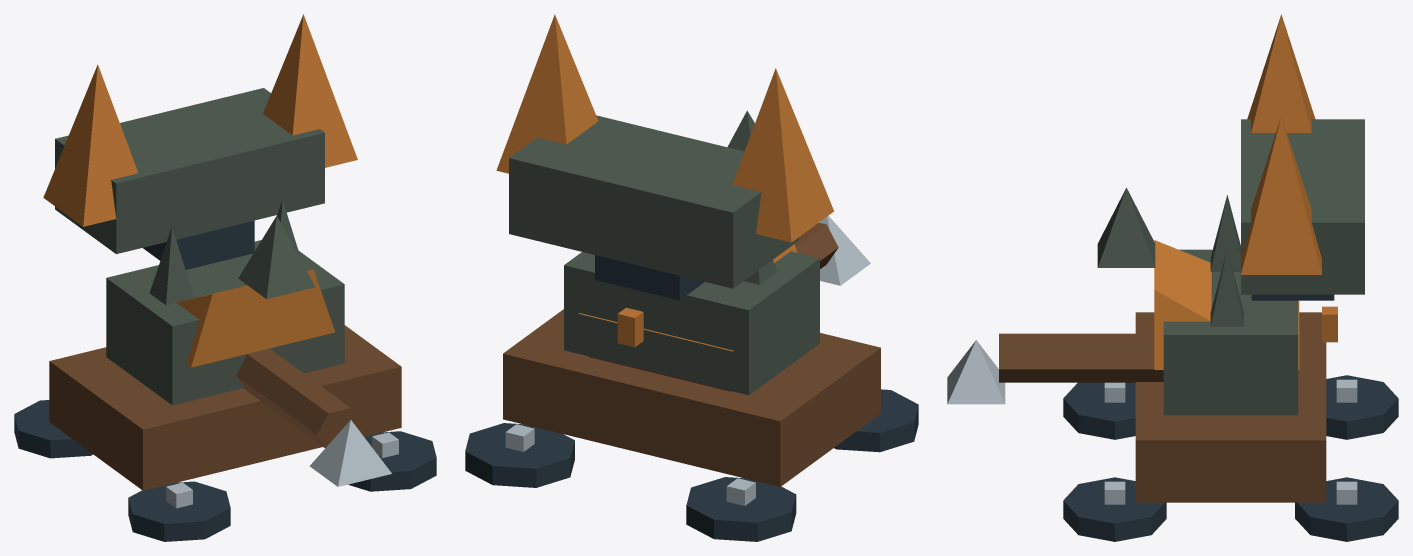
The model's file is legendary-land.obj.
The picture shows the model from 3 angles, left to right: view 1: azimuth 30°, elevation 25°; view 2: azimuth 150°, elevation 25°; view 3: azimuth 270°, elevation 25°; orthographic projection. The views are drawn at different scales.
Visible parts, largest first — view 1: siege; view 2: siege; view 3: siege.
Boxes of the visible parts, <box> form: siege: <box>14,14,436,541</box>; siege: <box>465,14,918,541</box>; siege: <box>947,14,1398,541</box>.
Bounding box in the file's own units: 1.95 × 2.47 × 2.51.
